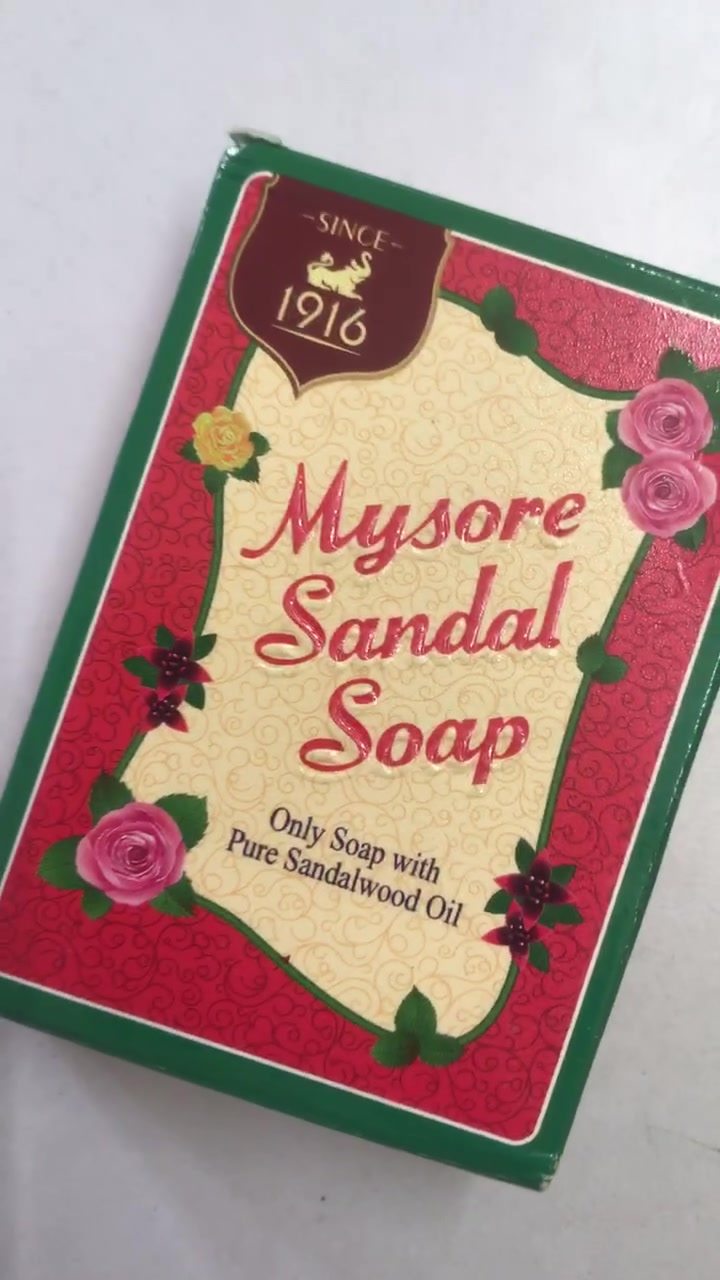mysore sandal soap: (8, 143, 720, 1184)
